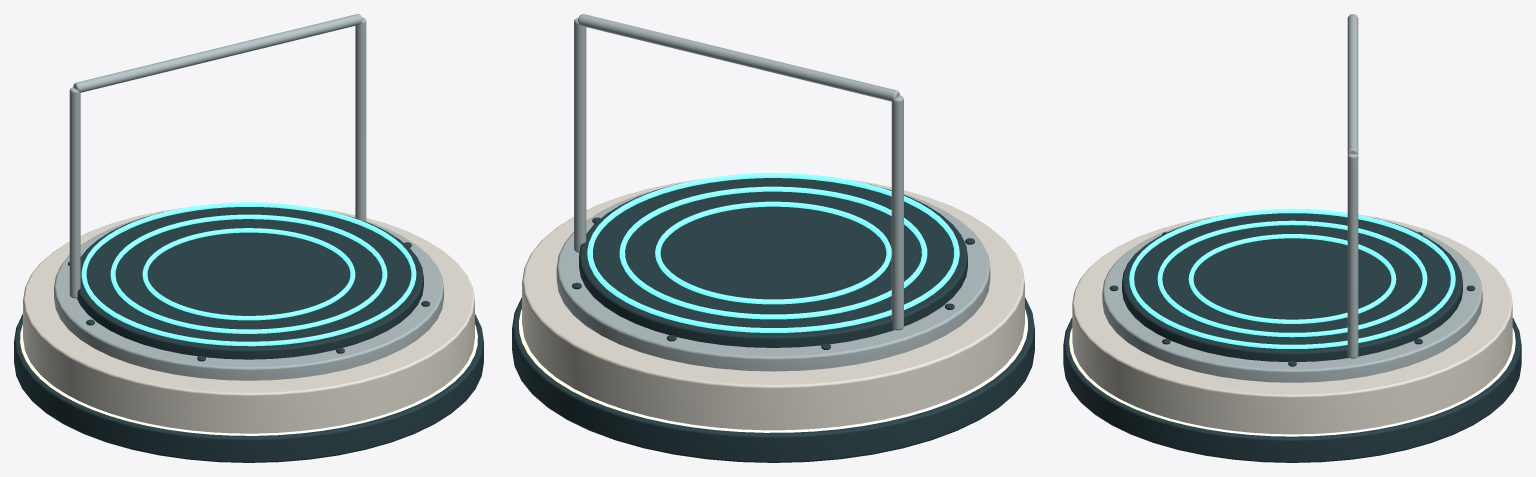
Rendered from echo-station.glb.
3 views of the same model, side by side, from view 1: azimuth 30°, elevation 25°; view 2: azimuth 150°, elevation 25°; view 3: azimuth 270°, elevation 25° (orthographic). The views are drawn at different scales.
Visible parts, largest first — view 1: Emitter glass, Porcelain base, Foot, Emitter rim, Concentric light, Precision scanning arch.002, Concentric light.001, Concentric light.002, Precision scanning arch, Precision scanning arch.001, Base accent; view 2: Emitter glass, Porcelain base, Foot, Emitter rim, Concentric light, Precision scanning arch.002, Concentric light.001, Concentric light.002, Precision scanning arch, Precision scanning arch.001, Base accent; view 3: Emitter glass, Porcelain base, Foot, Emitter rim, Concentric light, Concentric light.001, Precision scanning arch.001, Concentric light.002, Base accent, Precision scanning arch.002.
Part boxes in pixels (x1=…): Emitter glass: x1=77, y1=207, x2=423, y2=359; Porcelain base: x1=23, y1=208, x2=474, y2=433; Foot: x1=14, y1=314, x2=483, y2=462; Emitter rim: x1=54, y1=215, x2=443, y2=380; Concentric light: x1=81, y1=202, x2=416, y2=346; Precision scanning arch.002: x1=73, y1=14, x2=362, y2=92; Concentric light.001: x1=110, y1=214, x2=387, y2=333; Concentric light.002: x1=142, y1=228, x2=355, y2=320; Precision scanning arch: x1=69, y1=87, x2=80, y2=298; Precision scanning arch.001: x1=355, y1=17, x2=366, y2=221; Base accent: x1=20, y1=324, x2=477, y2=435; Emitter glass: x1=579, y1=178, x2=967, y2=347; Porcelain base: x1=522, y1=179, x2=1024, y2=430; Foot: x1=512, y1=297, x2=1034, y2=462; Emitter rim: x1=556, y1=187, x2=990, y2=371; Concentric light: x1=587, y1=173, x2=959, y2=332; Precision scanning arch.002: x1=578, y1=14, x2=899, y2=101; Concentric light.001: x1=619, y1=186, x2=927, y2=319; Concentric light.002: x1=655, y1=201, x2=891, y2=304; Precision scanning arch: x1=891, y1=95, x2=903, y2=330; Precision scanning arch.001: x1=574, y1=18, x2=586, y2=252; Base accent: x1=519, y1=309, x2=1027, y2=432; Emitter glass: x1=1122, y1=213, x2=1462, y2=361; Porcelain base: x1=1072, y1=214, x2=1512, y2=434; Foot: x1=1063, y1=318, x2=1521, y2=462; Emitter rim: x1=1102, y1=221, x2=1482, y2=382; Concentric light: x1=1129, y1=208, x2=1455, y2=348; Concentric light.001: x1=1157, y1=220, x2=1427, y2=337; Precision scanning arch.001: x1=1347, y1=154, x2=1358, y2=358; Concentric light.002: x1=1188, y1=234, x2=1396, y2=323; Base accent: x1=1069, y1=328, x2=1515, y2=436; Precision scanning arch.002: x1=1347, y1=14, x2=1358, y2=154.
Bounding box in the file's own units: 4.7 × 3.24 × 4.7.
